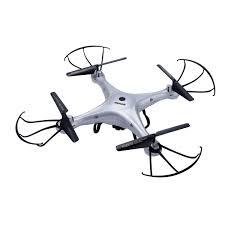drone: (13, 43, 220, 177)
